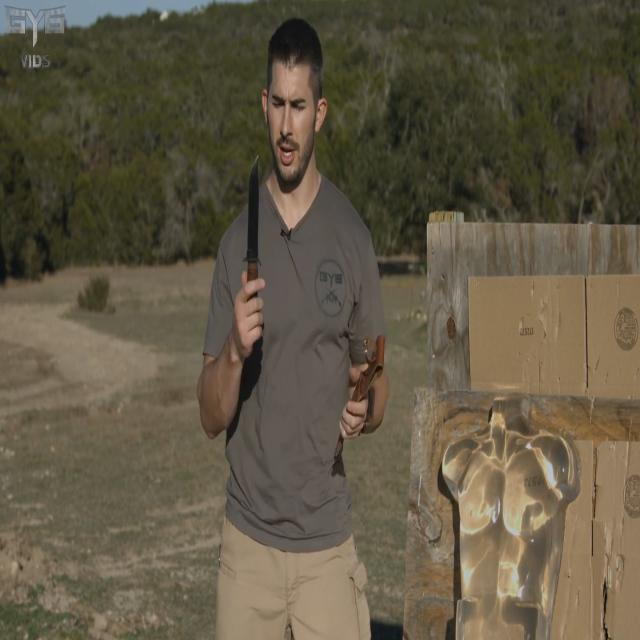knife: (246, 151, 266, 293)
